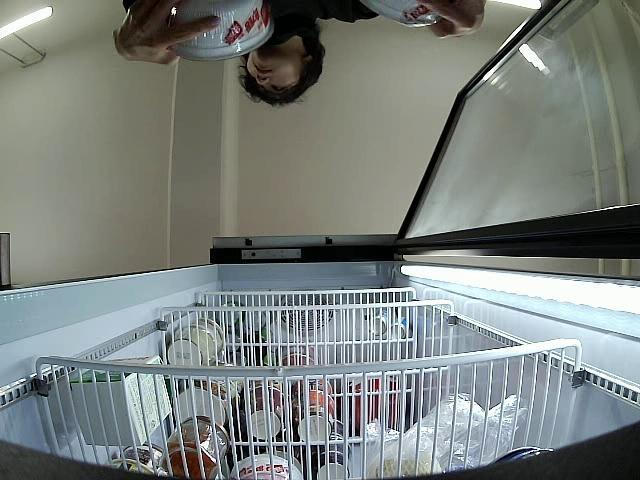09_yukGaeJang: (166, 0, 274, 61), (362, 0, 443, 26)
